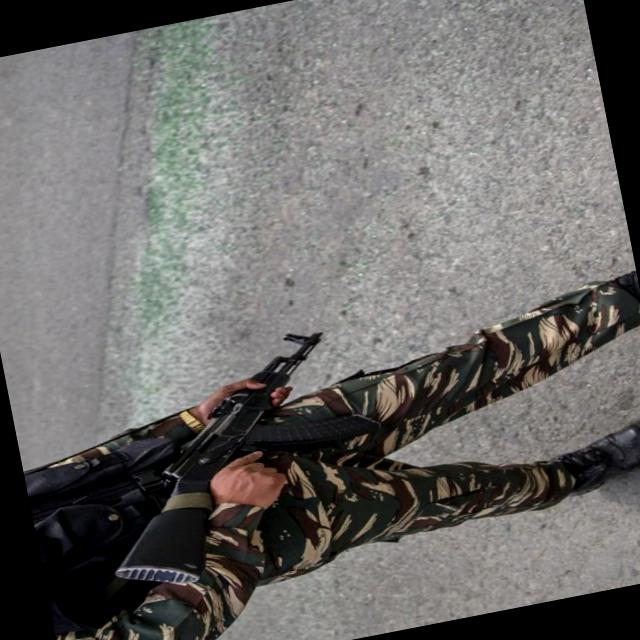long weapon: (70, 302, 398, 602)
